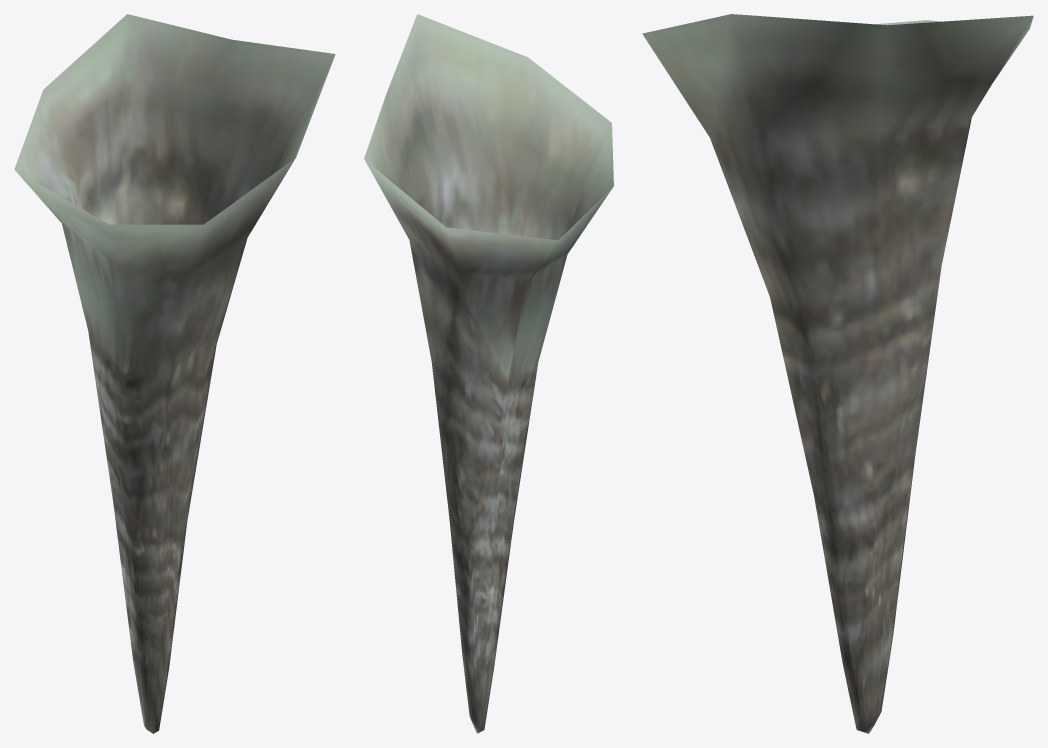
File: TROLLHOLE02_PS-MAINSTALAG21.fbx
The picture shows the model from 3 angles, left to right: view 1: azimuth 30°, elevation 25°; view 2: azimuth 150°, elevation 25°; view 3: azimuth 270°, elevation 25°; orthographic projection. The views are drawn at different scales.
Parts seen in each view (by area): view 1: TROLLHOLE02_PS-MAINSTALAG21; view 2: TROLLHOLE02_PS-MAINSTALAG21; view 3: TROLLHOLE02_PS-MAINSTALAG21.
Part boxes in pixels (x1=…): TROLLHOLE02_PS-MAINSTALAG21: x1=14, y1=14, x2=335, y2=733; TROLLHOLE02_PS-MAINSTALAG21: x1=364, y1=14, x2=613, y2=733; TROLLHOLE02_PS-MAINSTALAG21: x1=642, y1=14, x2=1033, y2=733.
Bounding box in the file's own units: 9340 × 26166 × 11774.
Materials: 1 (1 with a texture image).
